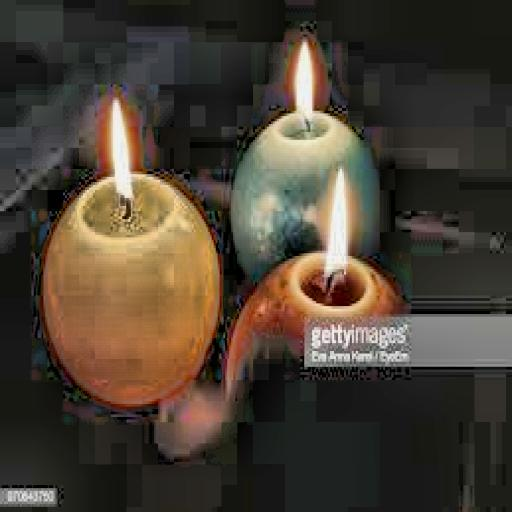fire: (316, 156, 356, 272), (287, 37, 330, 129), (99, 92, 134, 196)
